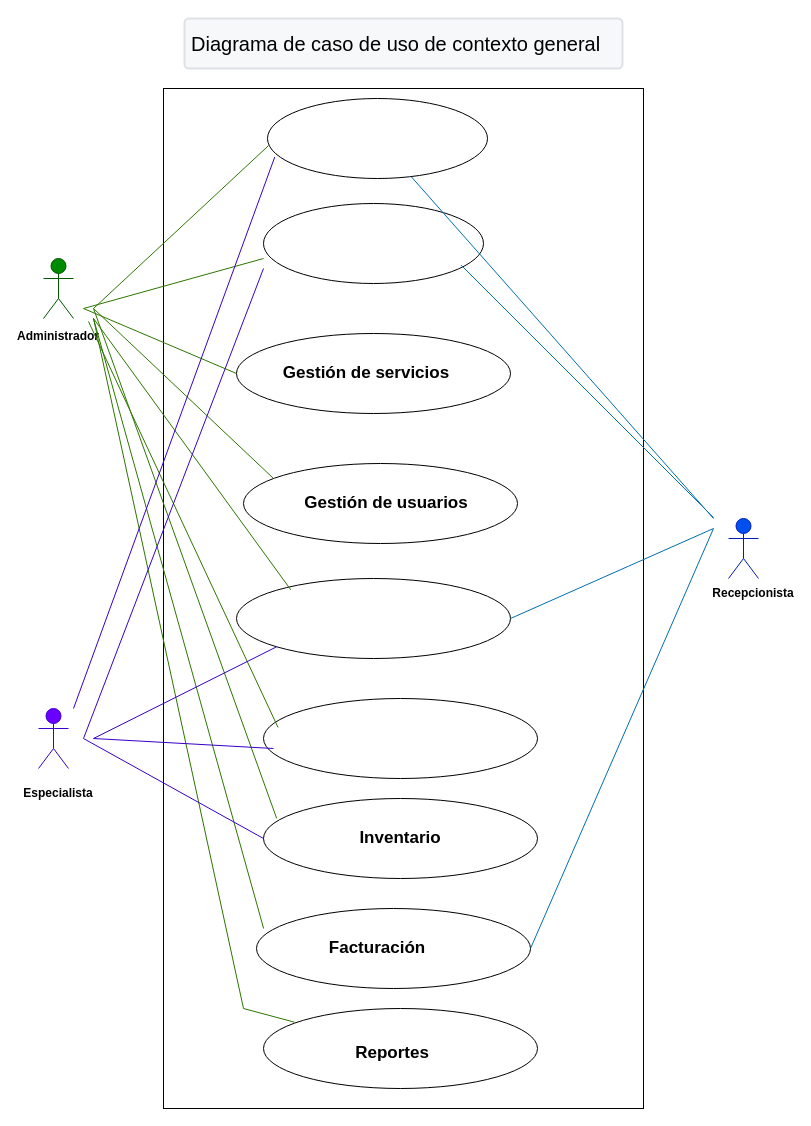
This 811x1126 diagram has some shape labels left out. The shapes that lost their labels are listed below. From the top down, each one's centre as x and y in pixels, then its label:
the point at 377,138: Seguridad
the point at 373,243: Gestión de pacientes
the point at 373,618: Administrador de citas
the point at 400,738: Gestión de expedientes
